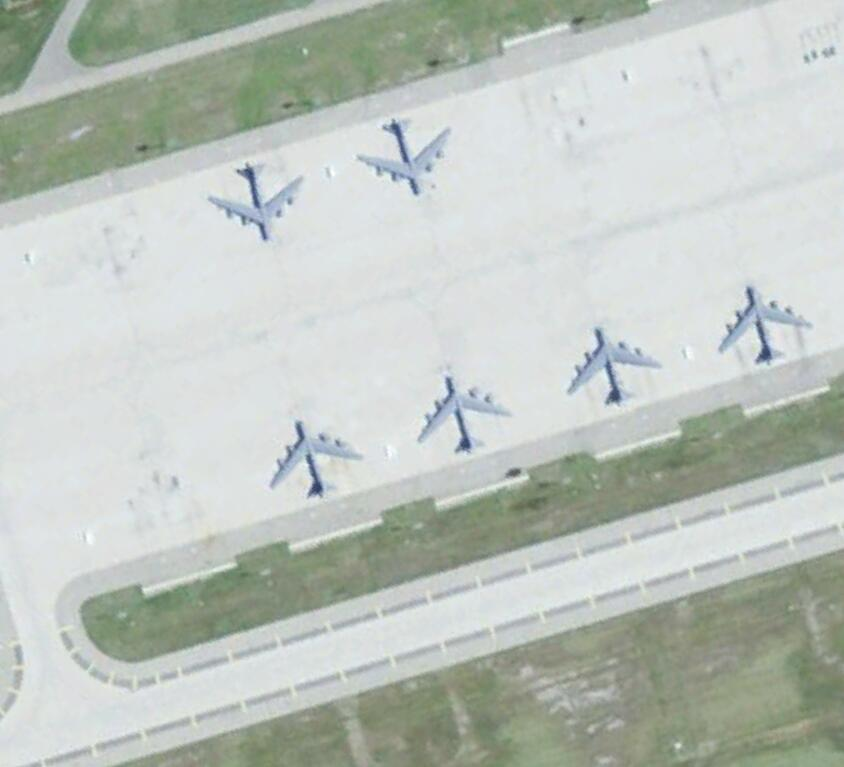A8: (564, 319, 666, 412), (417, 370, 515, 465), (354, 114, 456, 205), (207, 163, 310, 249), (714, 281, 818, 366), (270, 419, 368, 506)
